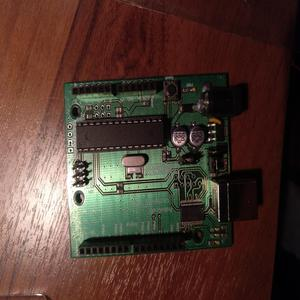duino: (62, 58, 236, 249)
